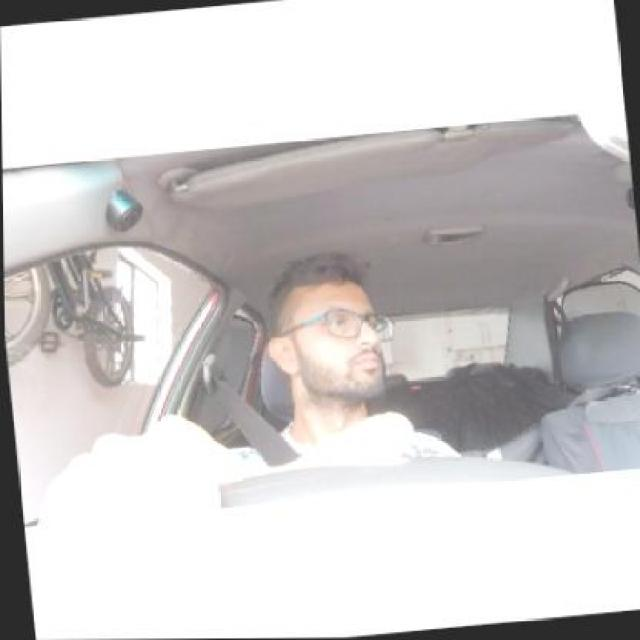person: (264, 254, 409, 416)
